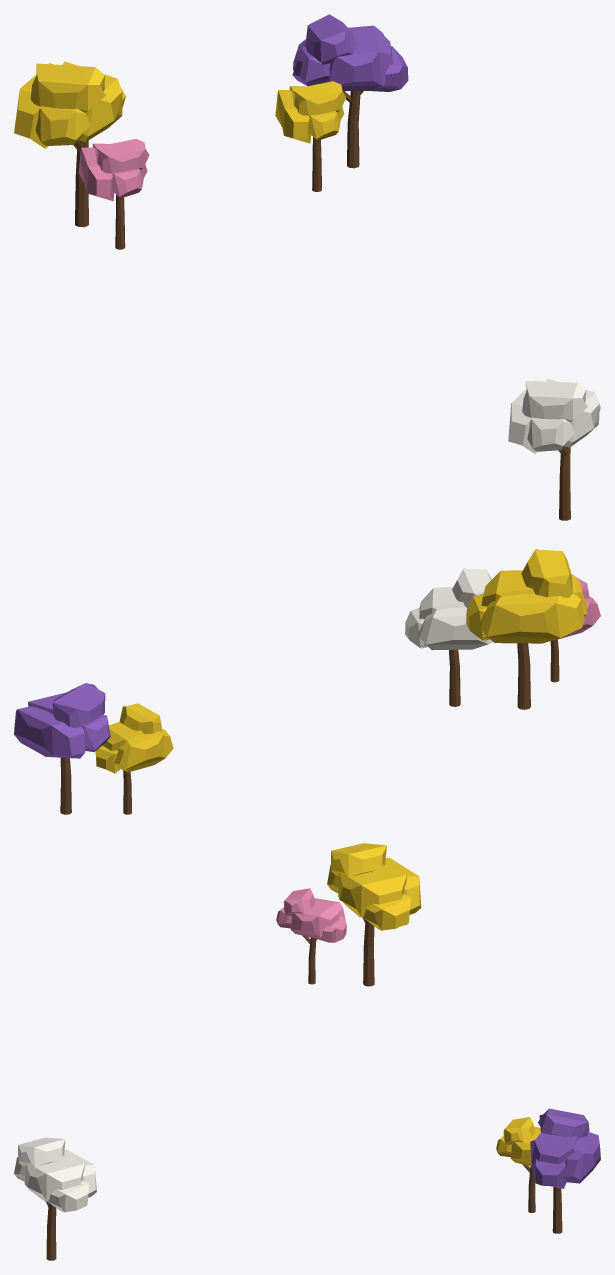
Rendered from ipes.glb.
3 renders of one model, top to bottom at view 1: azimuth 30°, elevation 25°; view 2: azimuth 150°, elevation 25°; view 3: azimuth 270°, elevation 25°, orthographic. The views are drawn at different scales.
Visible parts, largest first — view 1: Cylinder.002, Cylinder.001, Cylinder.005, Cylinder.003, Cylinder.004; view 2: Cylinder.002, Cylinder.001, Cylinder.005, Cylinder.004, Cylinder.003; view 3: Cylinder.002, Cylinder.005, Cylinder.001, Cylinder.003, Cylinder.004.
Boxes of the visible parts, box(x1,y1,x2,y2) form: Cylinder.002: box(14, 61, 125, 227); Cylinder.001: box(292, 14, 408, 168); Cylinder.005: box(508, 378, 600, 520); Cylinder.003: box(78, 139, 149, 249); Cylinder.004: box(275, 81, 346, 191); Cylinder.002: box(466, 549, 587, 709); Cylinder.001: box(14, 683, 110, 814); Cylinder.005: box(405, 568, 492, 706); Cylinder.004: box(95, 703, 173, 814); Cylinder.003: box(550, 577, 600, 682); Cylinder.002: box(327, 843, 421, 986); Cylinder.005: box(14, 1137, 96, 1260); Cylinder.001: box(530, 1108, 600, 1233); Cylinder.003: box(276, 888, 346, 984); Cylinder.004: box(496, 1117, 540, 1212).
Size of the model in its own units: 6.41 by 4.59 by 8.2.
